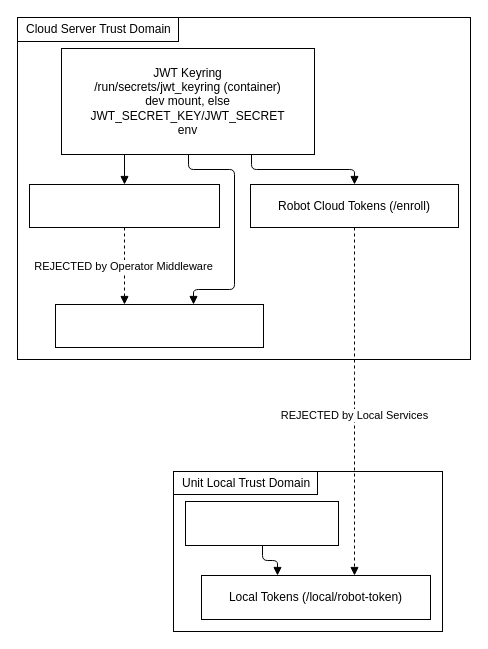
The diagram is 488 pixels wide and 649 high, and some of its shapes have lost their labels. Here are the shapes that lost their labels. From the top down, the centre of each, then its label:
(124,206): Admin JWTs (typ=admin)
(159,326): Operator JWTs (typ=access)
(261,523): Unit Local Keyring
